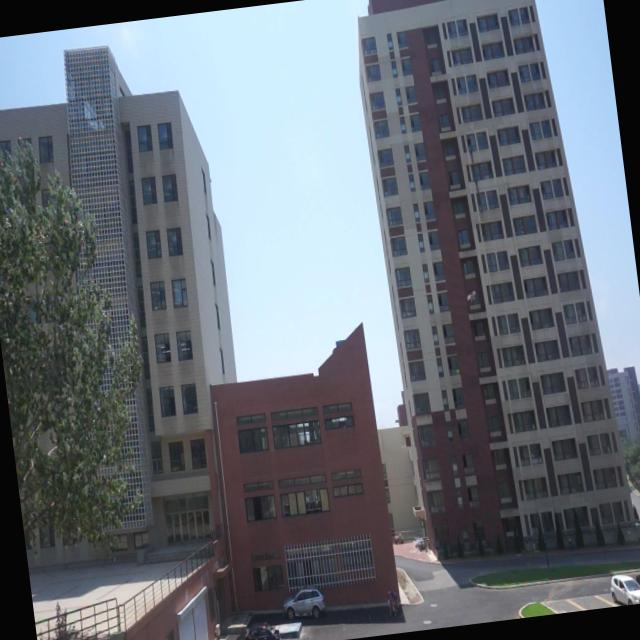drone: (462, 285, 481, 305)
